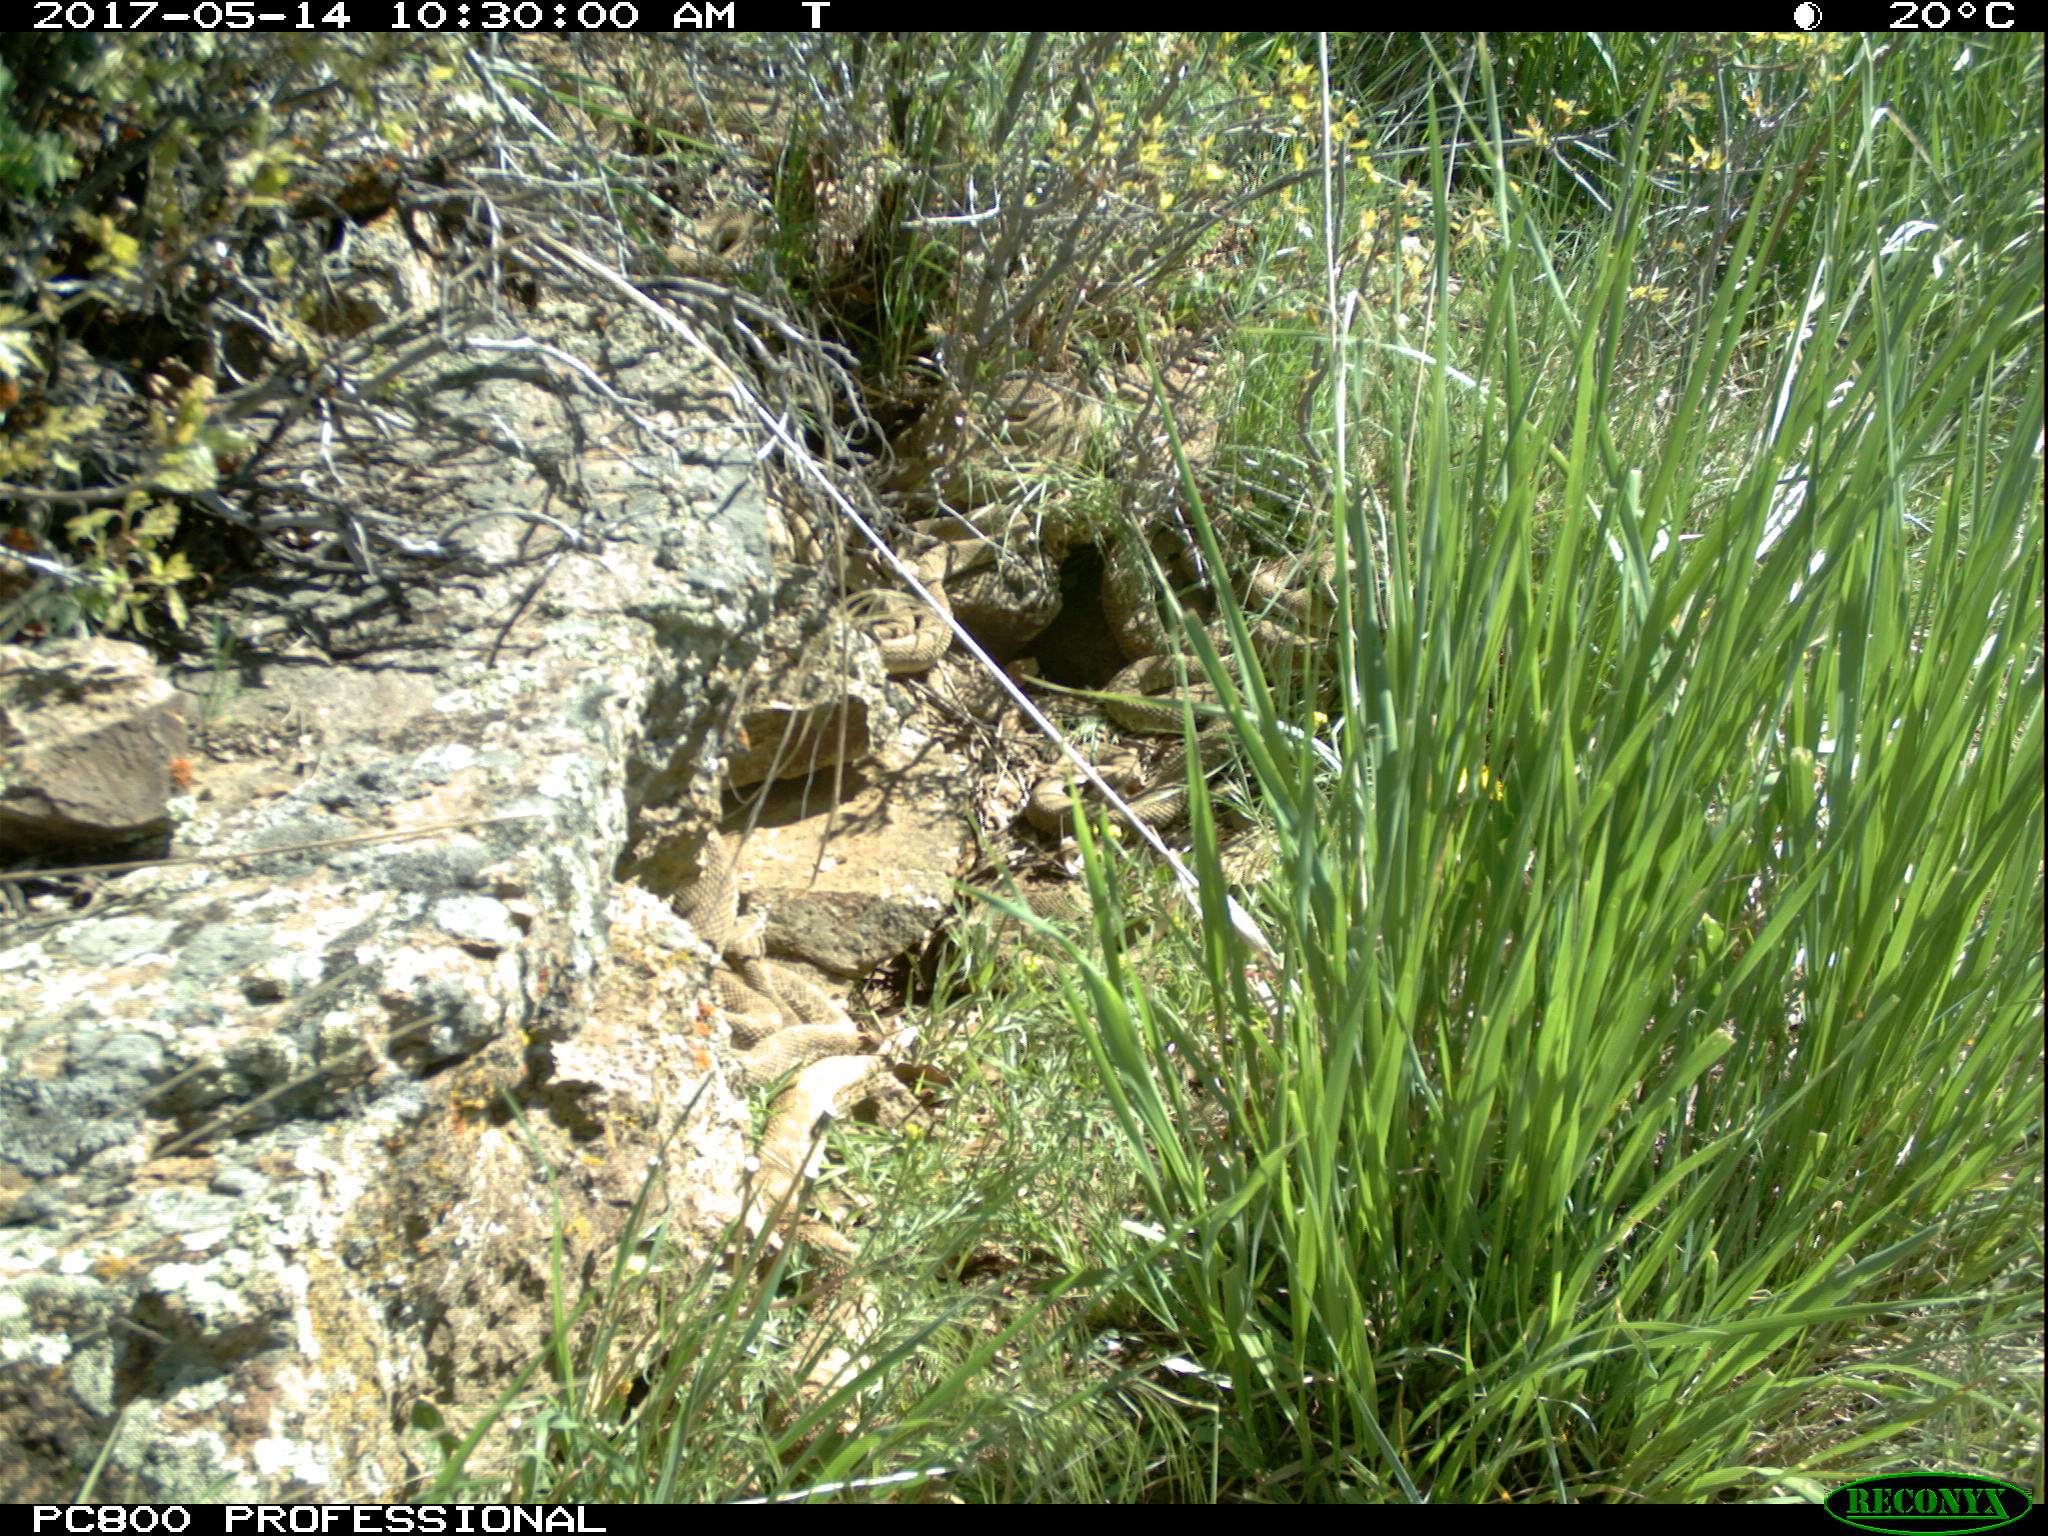snake: (748, 1042, 889, 1350), (1089, 549, 1259, 731), (721, 929, 872, 1086), (964, 883, 1129, 992), (971, 365, 1092, 503), (1019, 752, 1193, 837), (835, 579, 966, 674), (661, 808, 739, 962), (895, 505, 1035, 582), (1247, 541, 1359, 636), (1147, 340, 1247, 407)
